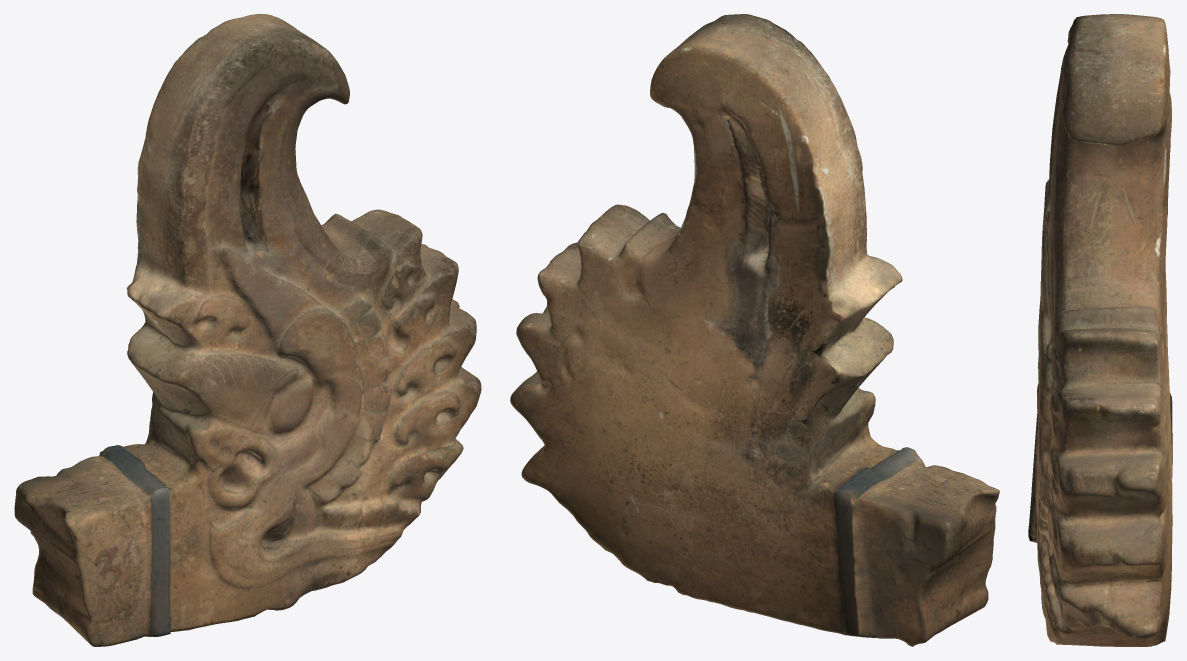
The model's file is 30_vattrangtri_final.glb.
3 views of the same model, side by side, from view 1: azimuth 30°, elevation 25°; view 2: azimuth 150°, elevation 25°; view 3: azimuth 270°, elevation 25° (orthographic). The views are drawn at different scales.
Size of the model in its own units: 0.4783 by 0.5794 by 0.1272.
Materials: 1 (1 with a texture image).
